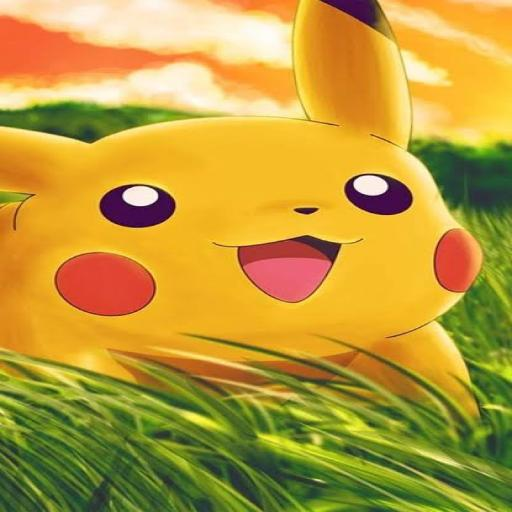Pikachu: (0, 0, 481, 425)
